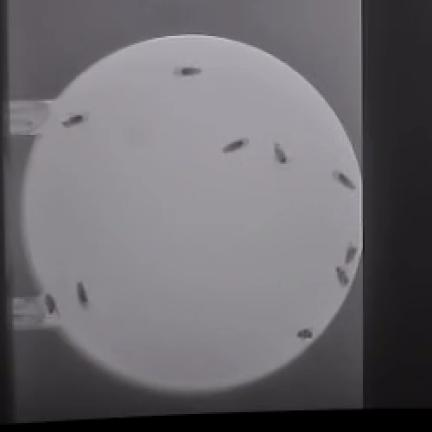fly: (334, 171, 355, 190), (63, 114, 88, 127), (223, 139, 248, 152), (274, 143, 288, 163), (175, 67, 202, 77), (77, 283, 88, 307), (45, 294, 58, 314), (336, 267, 349, 286), (346, 245, 357, 264), (298, 328, 312, 340)
